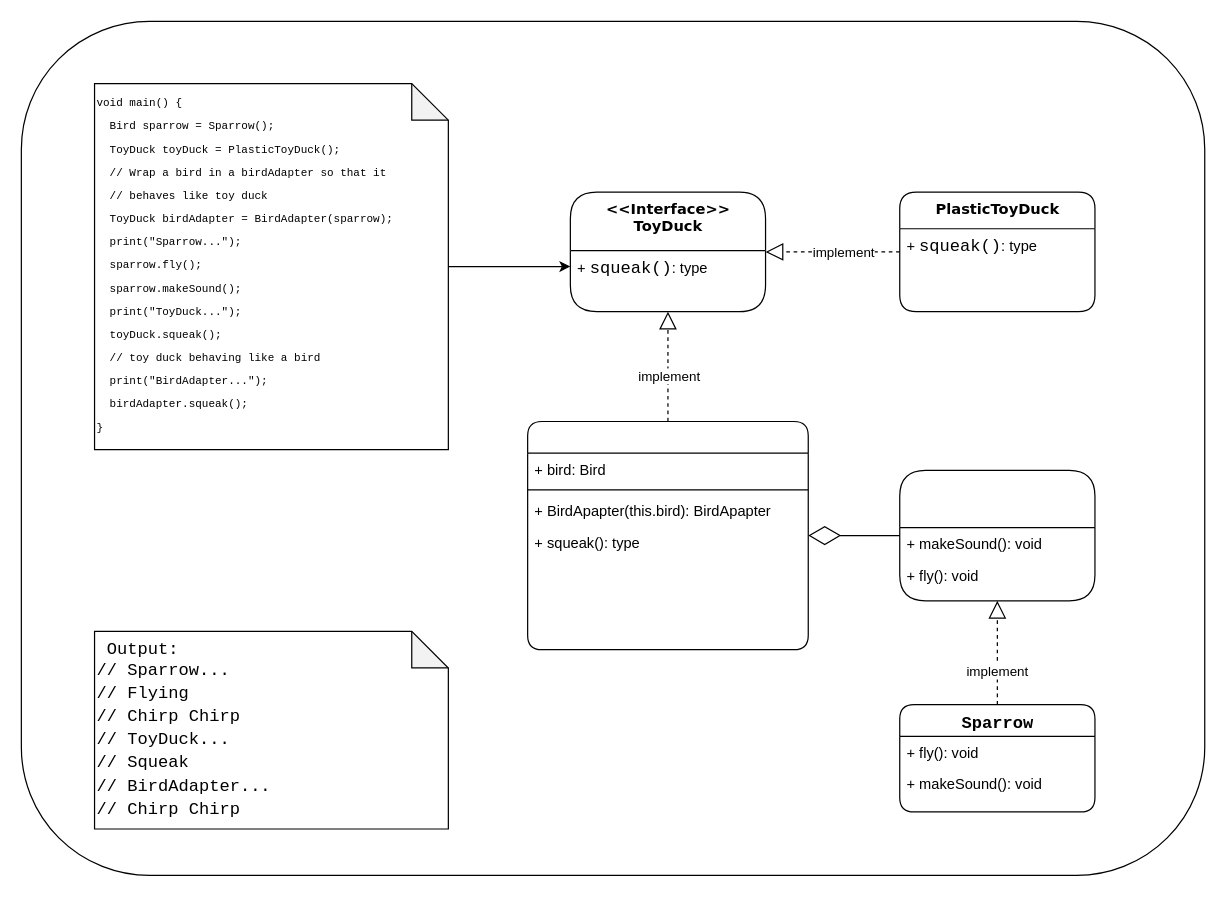
The diagram is 1226 pixels wide and 897 high, and some of its shapes have lost their labels. The box of each missing label's shape, as (x1, y1, x2, y2) in pixels:
<<Interface>> Bird: (899, 469, 1095, 601)
BirdAdapter: (526, 420, 808, 650)
